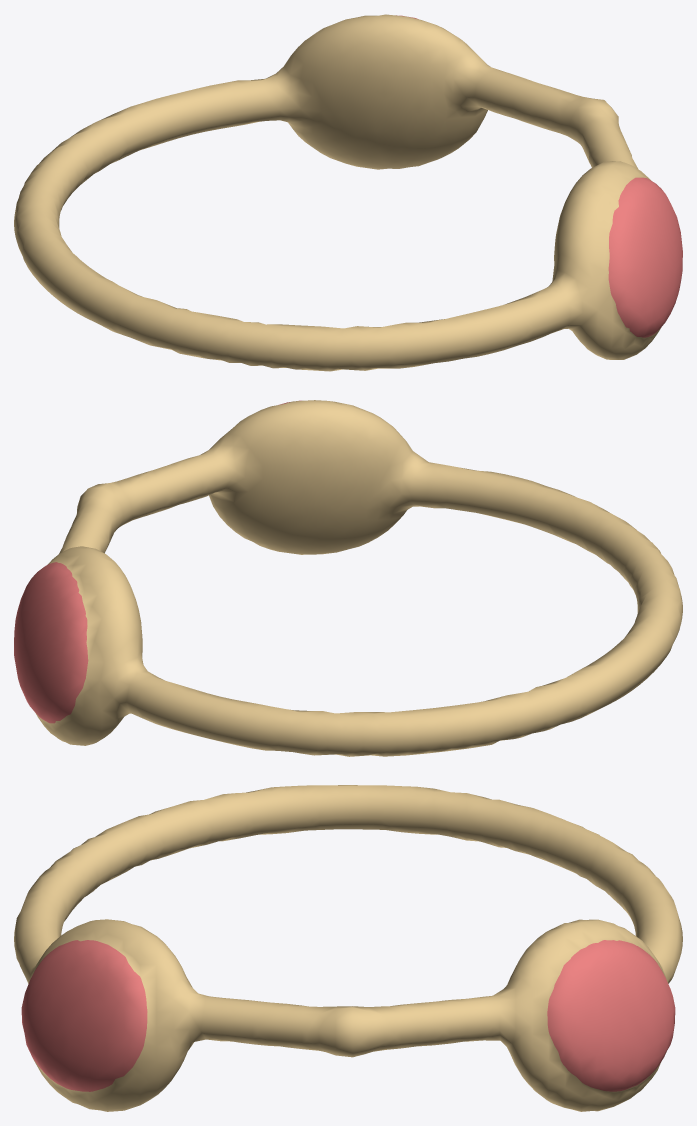
File: acc_goggles.glb
3 views of the same model, one above another, from view 1: azimuth 30°, elevation 25°; view 2: azimuth 150°, elevation 25°; view 3: azimuth 270°, elevation 25° (orthographic). The views are drawn at different scales.
Visible parts, largest first — view 1: body; view 2: body; view 3: body.
Part boxes in pixels (x1=…): body: x1=14, y1=14, x2=682, y2=371; body: x1=14, y1=400, x2=682, y2=756; body: x1=14, y1=785, x2=682, y2=1111.
Bounding box in the file's own units: 0.7985 × 0.2272 × 0.7959.
